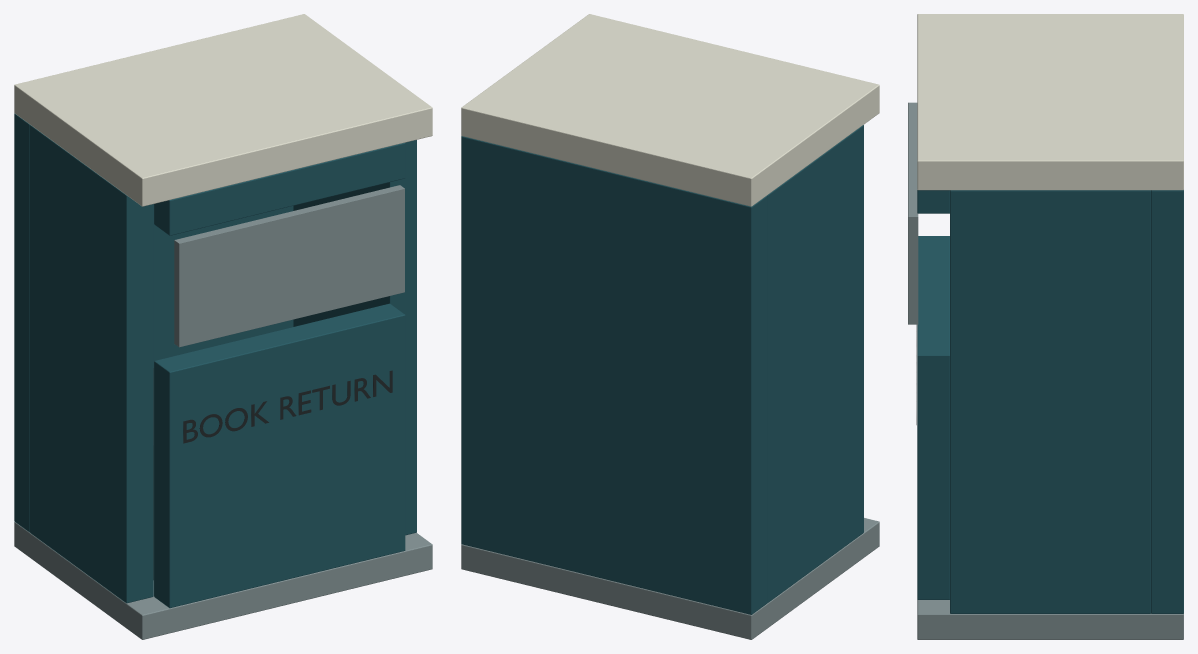
Rendered from public-library-book-return.glb.
The picture shows the model from 3 angles, left to right: view 1: azimuth 30°, elevation 25°; view 2: azimuth 150°, elevation 25°; view 3: azimuth 270°, elevation 25°; orthographic projection. The views are drawn at different scales.
Visible parts, largest first — view 1: Front_Lower, Side, Top, Flap, Base, Back, Slot_Header, Side.001, Editable_Label_BOOK_RETURN; view 2: Back, Top, Side, Base; view 3: Side.001, Top, Back, Front_Lower, Base, Flap, Slot_Header.
Boxes of the visible parts, <box> form: Front_Lower: <box>154,303,405,608</box>; Side: <box>30,125,153,603</box>; Top: <box>14,14,432,206</box>; Flap: <box>174,185,404,347</box>; Base: <box>14,521,432,639</box>; Back: <box>14,113,293,532</box>; Slot_Header: <box>154,143,405,235</box>; Side.001: <box>293,140,416,535</box>; Editable_Label_BOOK_RETURN: <box>183,370,392,443</box>; Back: <box>461,136,767,614</box>; Top: <box>461,14,879,206</box>; Side: <box>767,125,863,603</box>; Base: <box>461,518,879,639</box>; Side.001: <box>950,190,1150,613</box>; Top: <box>917,14,1183,190</box>; Back: <box>1151,190,1183,613</box>; Front_Lower: <box>917,236,949,599</box>; Base: <box>917,600,1183,639</box>; Flap: <box>908,102,918,324</box>; Slot_Header: <box>917,190,949,213</box>.
Size of the model in its own units: 0.85 by 1.29 by 0.6725.
